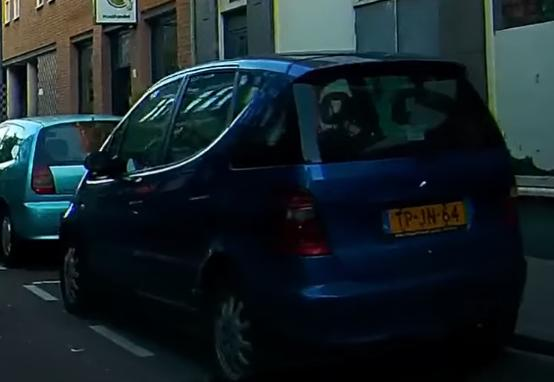license-plate: (380, 200, 471, 237)
